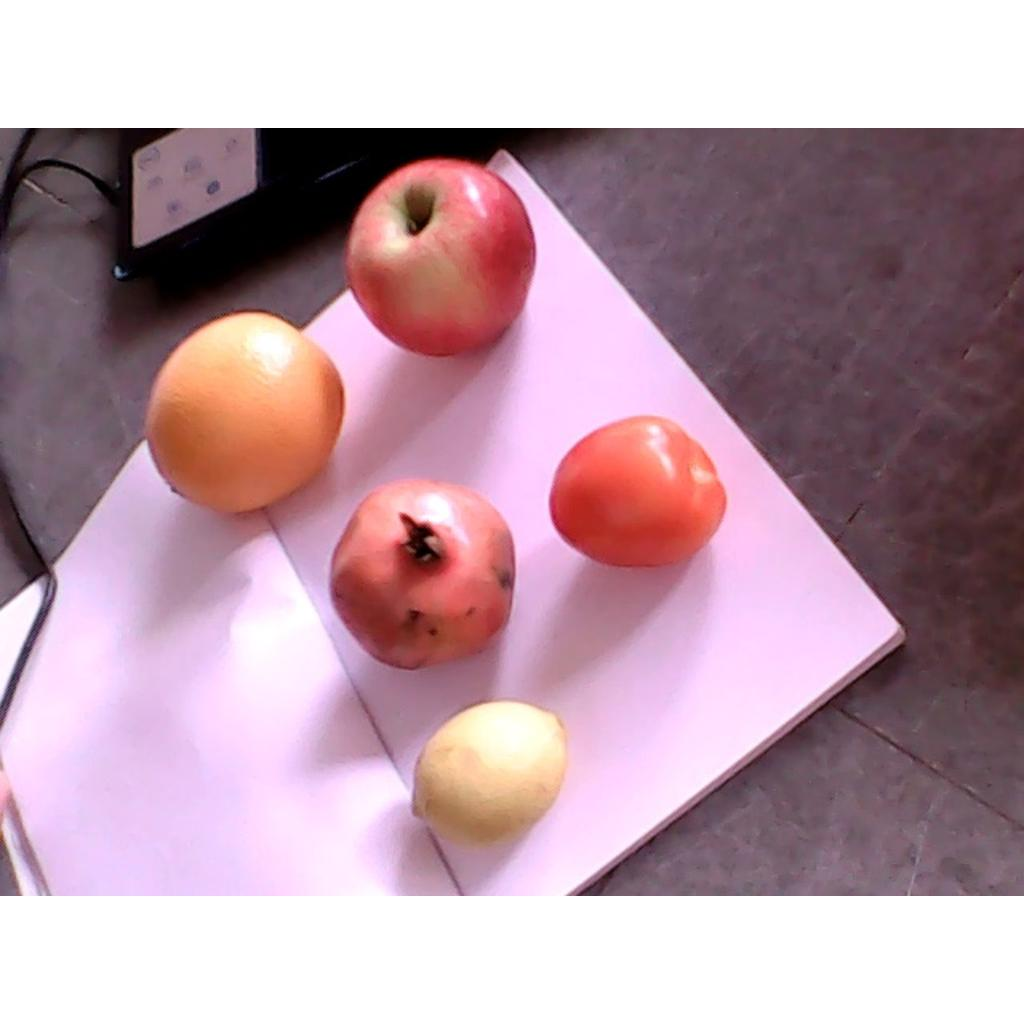apple: (345, 159, 536, 357)
lemon: (410, 701, 568, 845)
orange: (147, 311, 345, 513)
pomegranate: (331, 477, 515, 670)
tomato: (550, 417, 723, 567)
